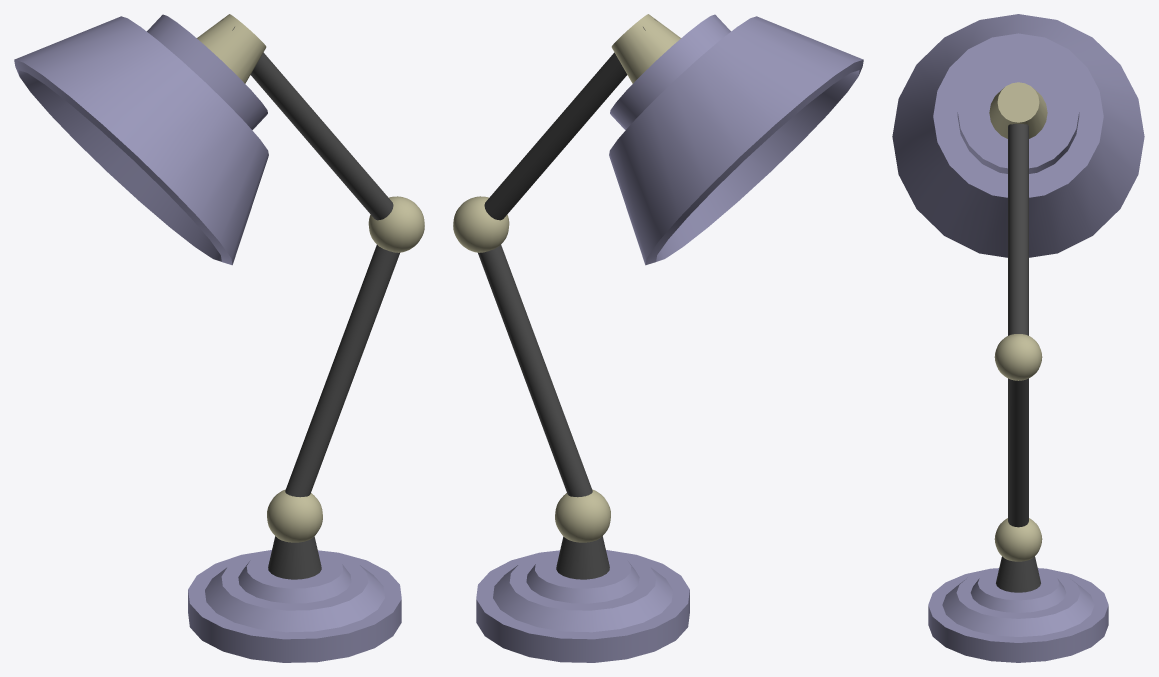
Rendered from colored desk lamp.fbx.
The picture shows the model from 3 angles, left to right: view 1: azimuth 30°, elevation 25°; view 2: azimuth 150°, elevation 25°; view 3: azimuth 270°, elevation 25°; orthographic projection. The views are drawn at different scales.
Parts seen in each view (by area): view 1: polySurface3, polySurface5, polySurface8, polySurface2; view 2: polySurface3, polySurface5, polySurface8, polySurface2; view 3: polySurface3, polySurface5, polySurface8, polySurface2.
Boxes of the visible parts, x1,y1,x2,y2 form: polySurface3: (14, 14, 268, 265); polySurface5: (188, 550, 401, 662); polySurface8: (220, 19, 399, 579); polySurface2: (197, 14, 424, 542); polySurface3: (609, 14, 863, 265); polySurface5: (476, 550, 689, 662); polySurface8: (478, 19, 657, 579); polySurface2: (453, 14, 680, 542); polySurface3: (892, 14, 1144, 257); polySurface5: (928, 568, 1108, 662); polySurface8: (996, 124, 1040, 592); polySurface2: (989, 82, 1047, 561).
Size of the model in its own units: 0.5252 by 0.8338 by 0.3609.
